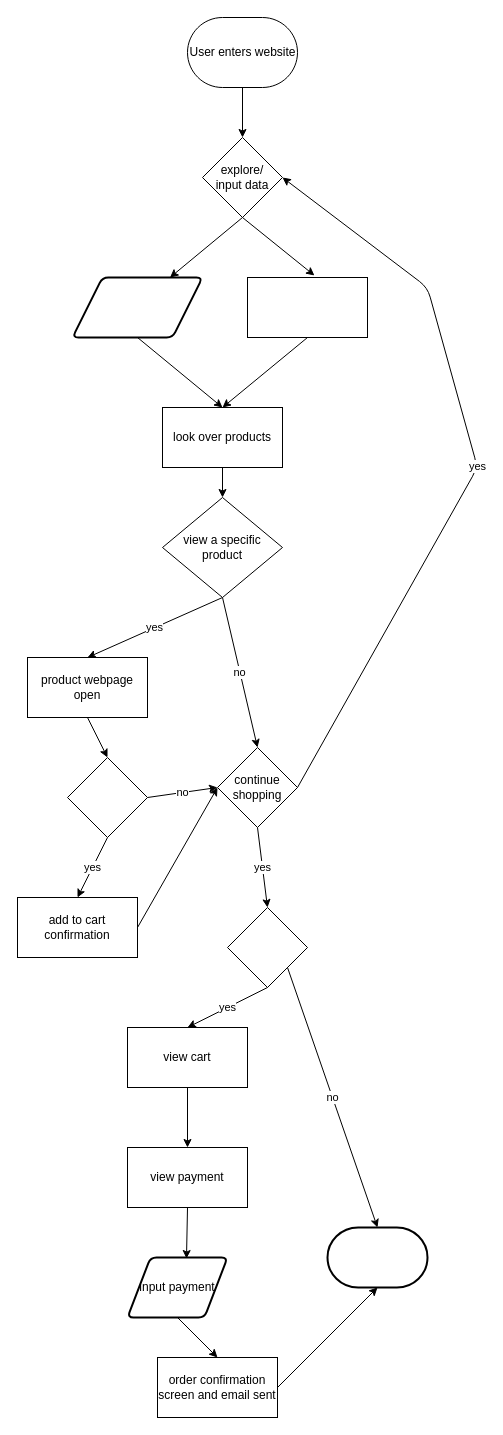
Some shapes in this 503 by 1435 pixel diagram are drawn without their labels. The shapes that lost their labels are listed below. From the top down, each one's centre as x and y in pixels, then its label:
At (137,307): "input data to search".
At (307,307): "explore products".
At (107,797): "add to cart".
At (267,947): "checkout or no".
At (377,1257): "Leave website".
